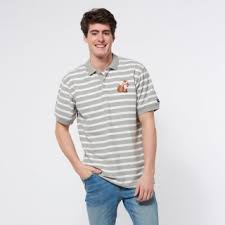S_polo shirt: (54, 54, 161, 182)
